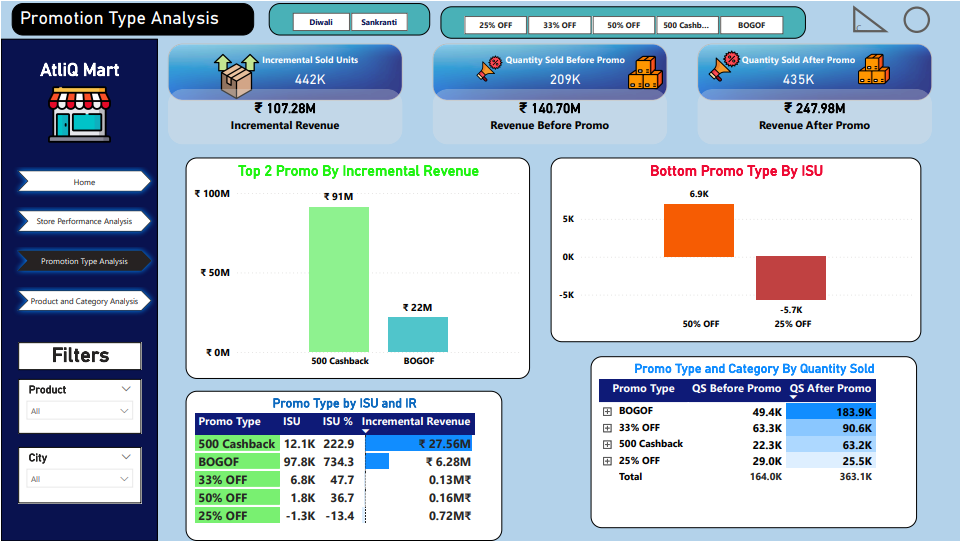

This screenshot's page, from the dashboard's own definition file:
{"tool":"powerbi","page":{"name":"Promotion Type Analysis","canvas":[1280,720],"ordinal":2},"visuals":[{"type":"slicer","fields":{"Values":["dim_campaigns.campaign_name"]},"box":[356.7,3.3,215,43.3],"z":0},{"type":"slicer","fields":{"Values":["fact_events.promo_type"]},"box":[586.1,7.2,486.7,43.2],"z":1000},{"type":"actionButton","title":"Clear All Slicers","box":[1136.2,5.8,47.5,36],"z":2000},{"type":"textbox","box":[0,50.4,208.8,669.6],"z":3000},{"type":"slicer","fields":{"Values":["dim_stores.city"]},"box":[23,594.7,164.2,74.9],"z":4000},{"type":"textbox","title":"Filters","box":[23,455,164.2,37.4],"z":5000},{"type":"slicer","fields":{"Values":["dim_products.product_name"]},"box":[23,504,164.2,73.4],"z":6000},{"type":"pageNavigator","box":[14.4,218.9,194.4,205.9],"z":7000},{"type":"actionButton","title":"Clear All Filters","box":[1195,0,51.7,50],"z":8000},{"type":"textbox","title":"Promotion Type Analysis","box":[15,3.3,323.3,43.3],"z":9000},{"type":"textbox","title":"AtliQ Mart","box":[23,77.8,164.2,119.5],"z":10000},{"type":"image","box":[37.4,105.1,133.9,92.2],"z":11000},{"type":"cardVisual","fields":{"Data":["Measures (3).Total ISU","Measures (3).Total QSBP","Measures (3).Total QSAP"]},"box":[217.4,51.8,1029.6,86.4],"z":12000},{"type":"cardVisual","fields":{"Data":["Measures (3).Total Incremental Revenue","Measures (3).Total RBP","Measures (3).Total RAP"]},"box":[217.4,112.3,1029.6,85],"z":13000},{"type":"image","box":[829.4,67.7,59,54.7],"z":14000},{"type":"image","box":[931.7,60.5,66.2,51.8],"z":15000},{"type":"tableEx","title":"Promo Type by ISU and IR","fields":{"Values":["fact_events.promo_type","Measures (3).Total ISU","Measures (3).ISU %","Measures (3).Total Incremental Revenue"]},"box":[246.2,519.8,421.9,200.2],"z":16000},{"type":"pivotTable","title":"Promo Type and Category By Quantity Sold","fields":{"Rows":["fact_events.promo_type","dim_products.category"],"Values":["Measures (3).Total QSBP","Measures (3).Total QSAP"]},"box":[786.2,473.8,434.9,229],"z":17000},{"type":"clusteredColumnChart","title":"Top 2 Promo By Incremental Revenue","fields":{"Category":["fact_events.promo_type"],"Y":["Measures (3).Total Incremental Revenue"]},"box":[246.2,208.8,459.4,295.2],"z":18000},{"type":"clusteredColumnChart","title":"Bottom Promo Type By ISU","fields":{"Category":["fact_events.promo_type"],"Y":["Measures (3).Total ISU"]},"box":[733,208.8,493.9,246.2],"z":19000}]}

Visuals, with their boxes in screenshot pixels (x1, y1, x2, y2), scaled from the page's 1280x720 canvas onto the 960x541 screenshot:
slicer - dim_campaigns.campaign_name: select_region(268, 2, 429, 35)
slicer - fact_events.promo_type: select_region(440, 5, 805, 38)
"Clear All Slicers" actionButton: select_region(852, 4, 888, 31)
textbox: select_region(0, 38, 157, 540)
slicer - dim_stores.city: select_region(17, 447, 140, 503)
"Filters" textbox: select_region(17, 342, 140, 370)
slicer - dim_products.product_name: select_region(17, 379, 140, 434)
pageNavigator: select_region(11, 164, 157, 319)
"Clear All Filters" actionButton: select_region(896, 0, 935, 38)
"Promotion Type Analysis" textbox: select_region(11, 2, 254, 35)
"AtliQ Mart" textbox: select_region(17, 58, 140, 148)
image: select_region(28, 79, 128, 148)
cardVisual - Measures (3).Total ISU x Measures (3).Total QSBP: select_region(163, 39, 935, 104)
cardVisual - Measures (3).Total Incremental Revenue x Measures (3).Total RBP: select_region(163, 84, 935, 148)
image: select_region(622, 51, 666, 92)
image: select_region(699, 45, 748, 84)
"Promo Type by ISU and IR" tableEx: select_region(185, 391, 501, 540)
"Promo Type and Category By Quantity Sold" pivotTable: select_region(590, 356, 916, 528)
"Top 2 Promo By Incremental Revenue" clusteredColumnChart: select_region(185, 157, 529, 379)
"Bottom Promo Type By ISU" clusteredColumnChart: select_region(550, 157, 920, 342)
